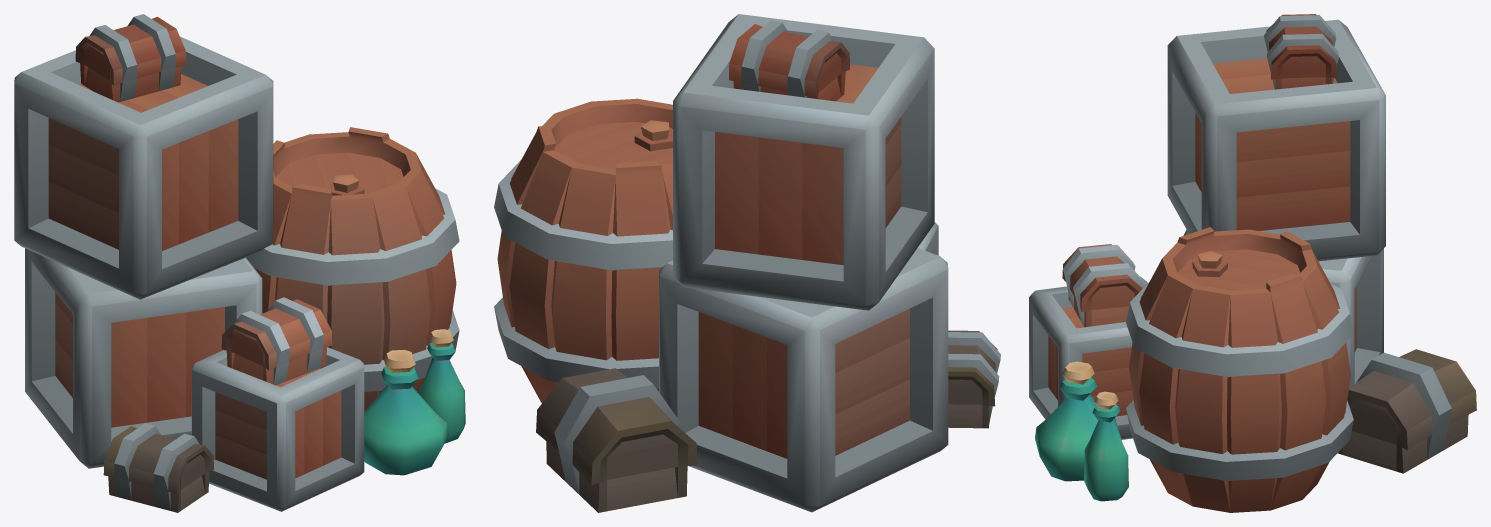
File: d_box_stacked.glb
3 views of the same model, side by side, from view 1: azimuth 30°, elevation 25°; view 2: azimuth 150°, elevation 25°; view 3: azimuth 270°, elevation 25° (orthographic). The views are drawn at different scales.
Parts seen in each view (by area): view 1: box_stacked; view 2: box_stacked; view 3: box_stacked.
Boxes of the visible parts, <box> form: box_stacked: <box>14,14,465,512</box>; box_stacked: <box>494,14,1000,512</box>; box_stacked: <box>1029,14,1476,512</box>.
Size of the model in its own units: 3.48 by 3.31 by 3.63.
1 material, 1 textured.
